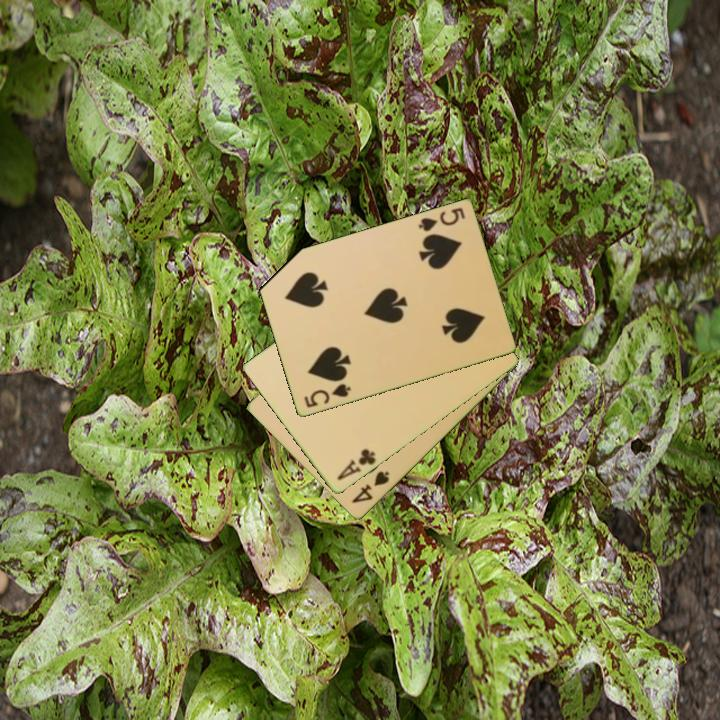4s: (348, 468, 392, 507)
5s: (414, 204, 468, 235), (300, 380, 353, 411)
Ac: (334, 445, 379, 484)
